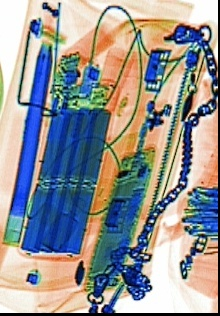powerbank: (15, 75, 117, 261)
